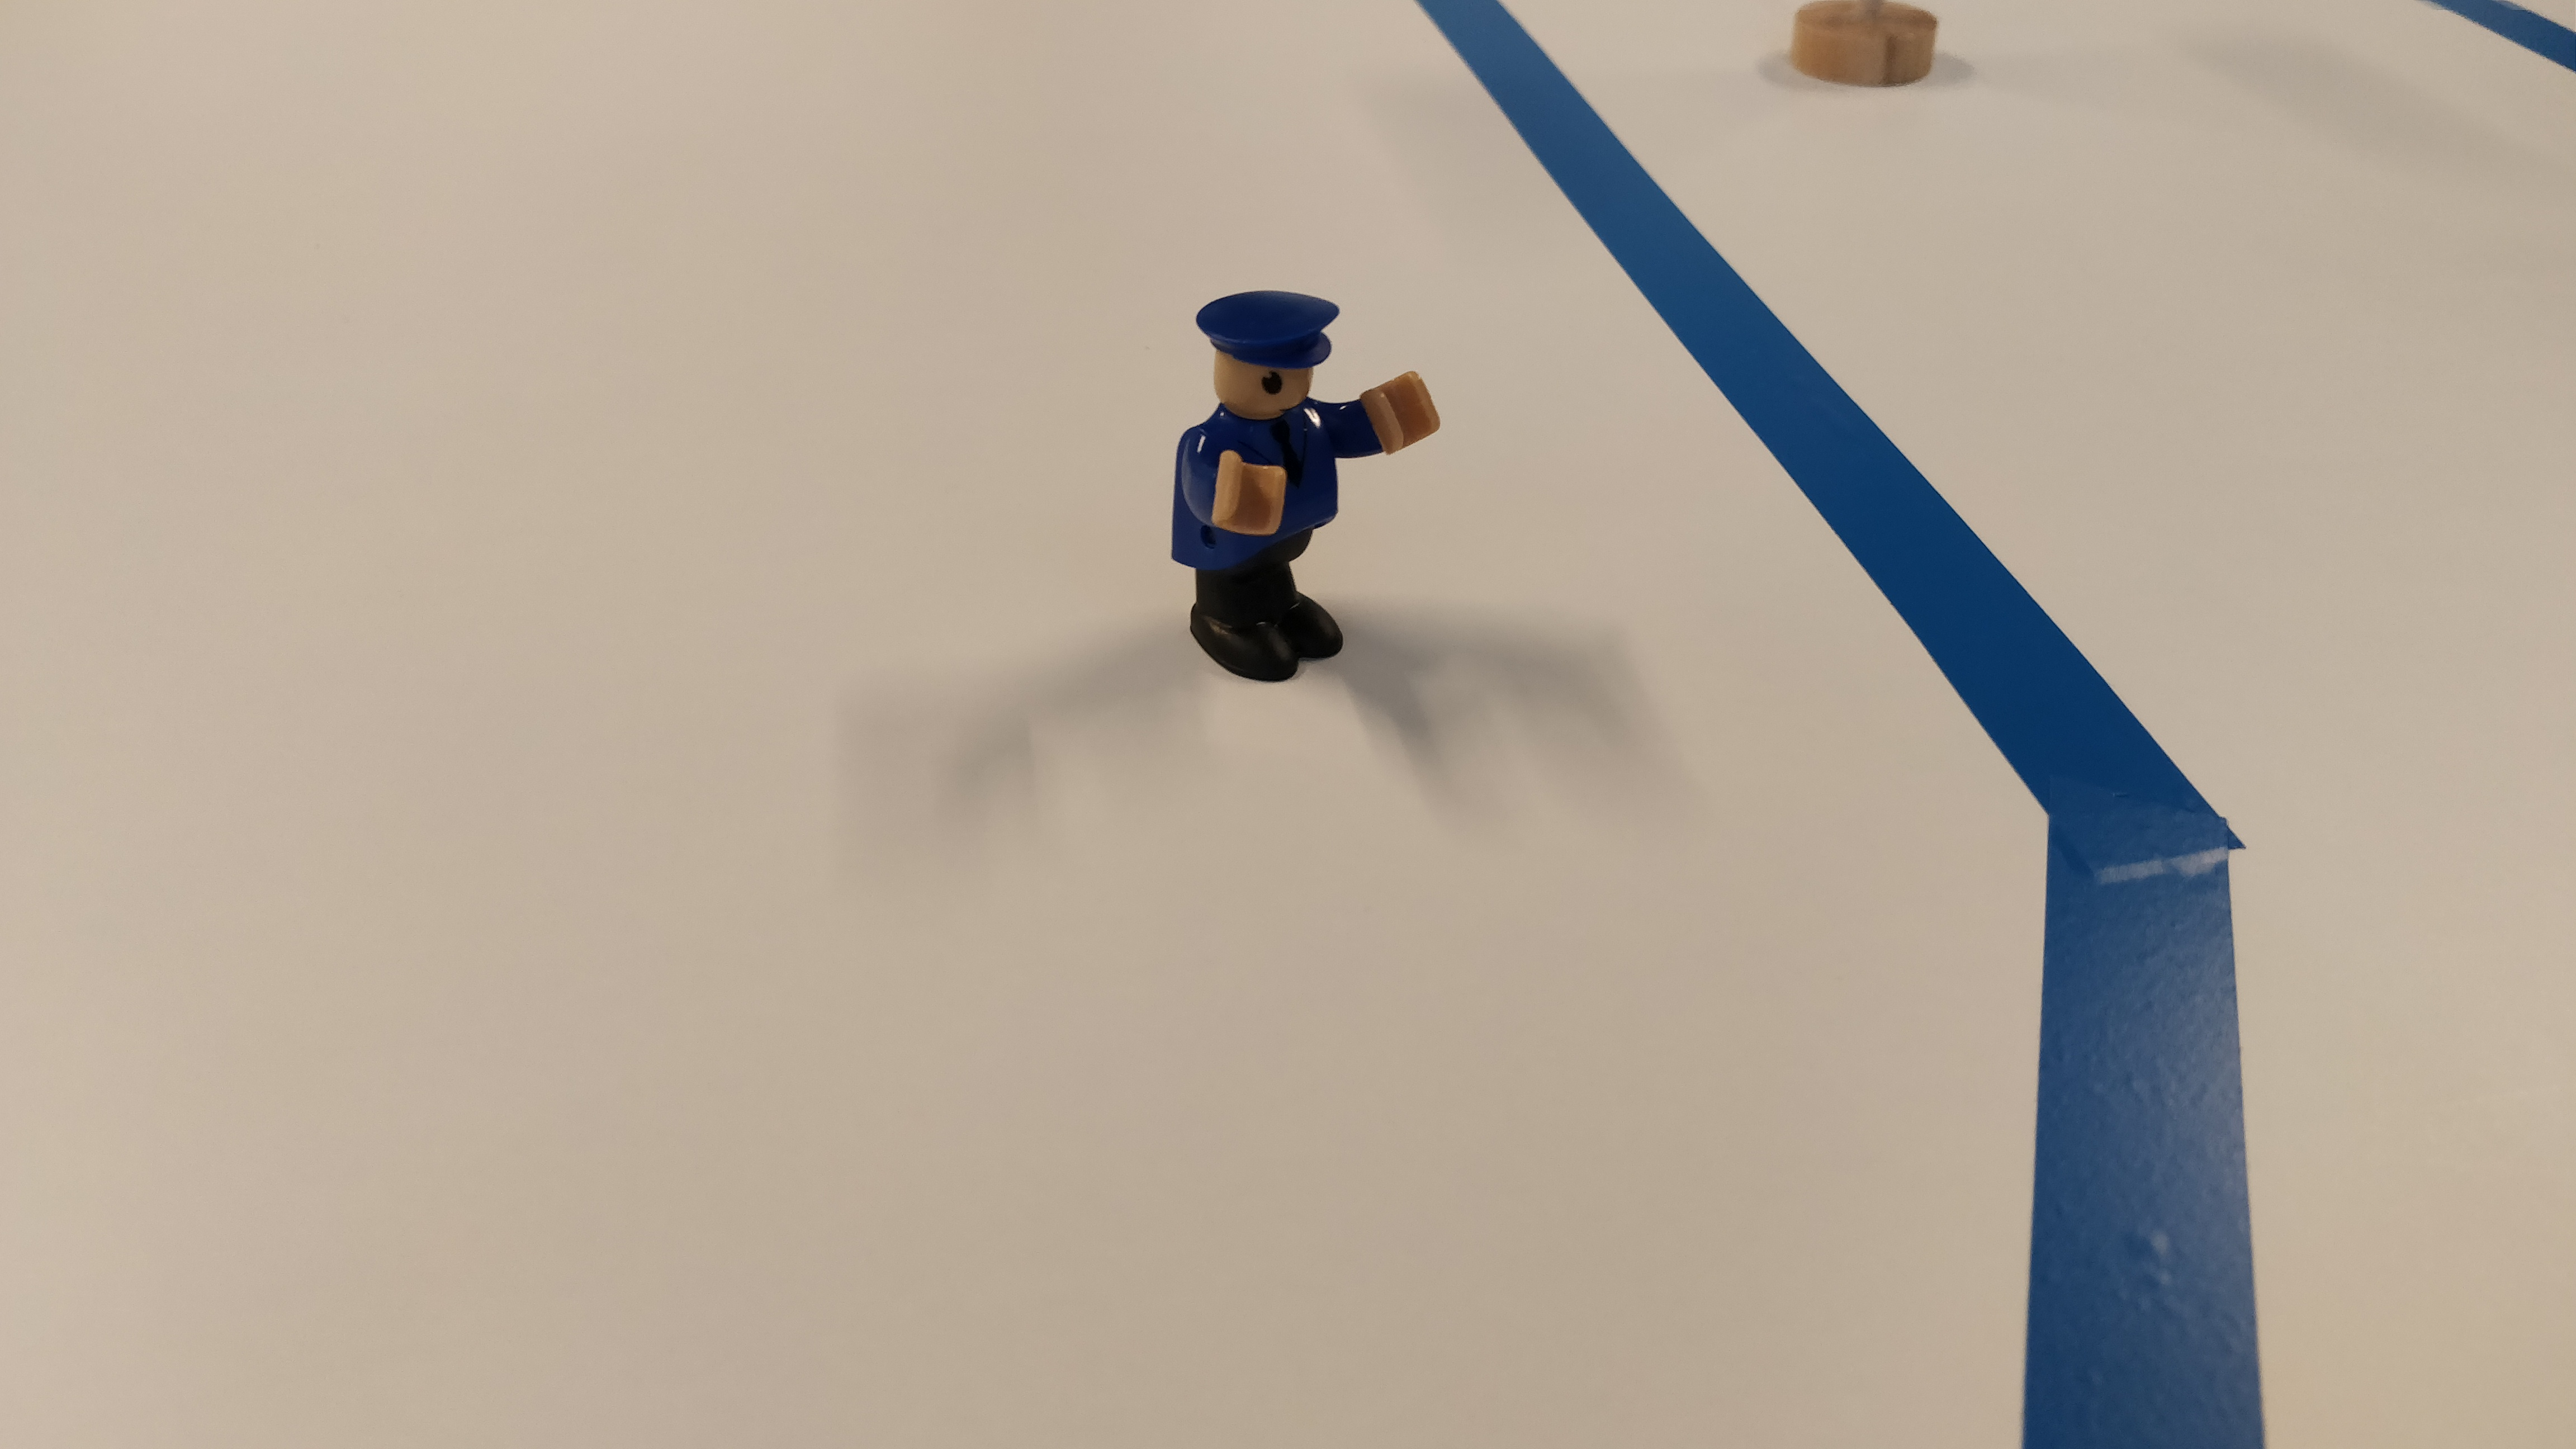Person: (1166, 284, 1453, 692)
